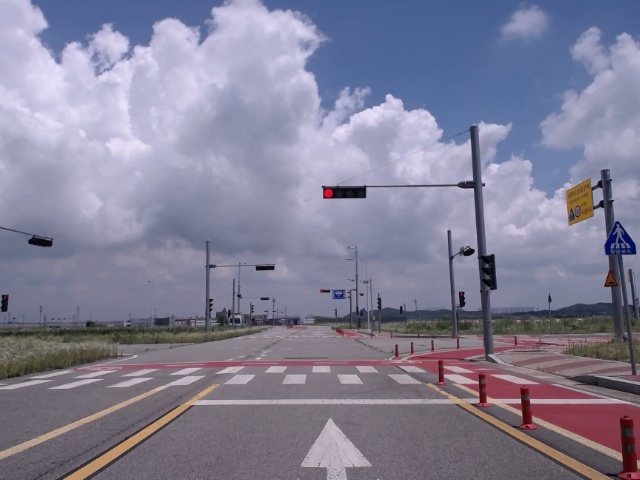red_4: (323, 186, 366, 199)
